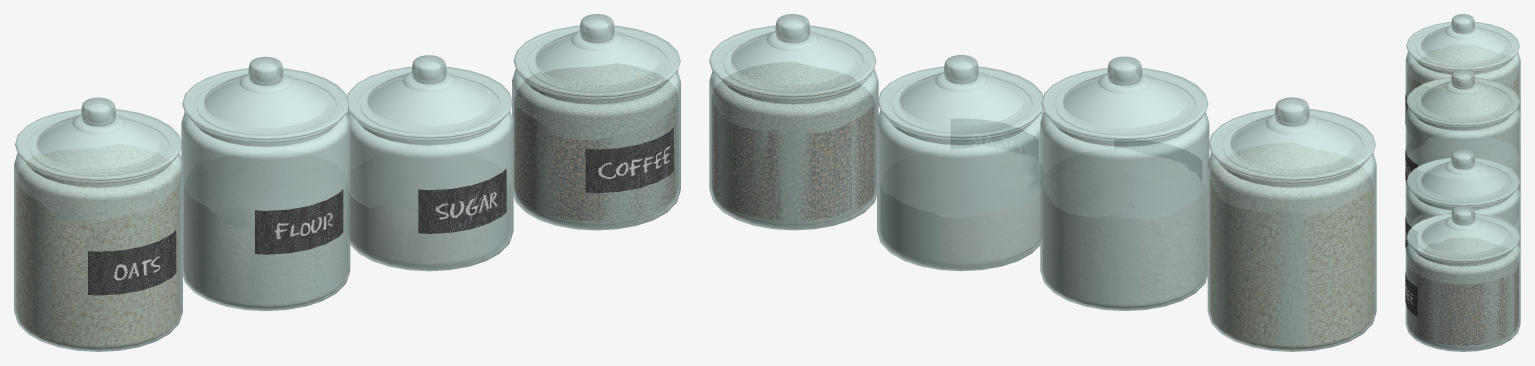
3 views of the same model, side by side, from view 1: azimuth 30°, elevation 25°; view 2: azimuth 150°, elevation 25°; view 3: azimuth 270°, elevation 25° (orthographic). The views are drawn at different scales.
Parts seen in each view (by area): view 1: _1_Gallon_Base (×6), group_4 (×20), _3qt_Base (×6), group_13 (×2), group_9, group_2 (×2), group_6, group_1, group_12, group_7, group_10; view 2: _1_Gallon_Base (×6), _3qt_Base (×6), group_4 (×20), group_13 (×3), group_9, group_2 (×3), group_6, group_7, group_1; view 3: group_4 (×20), _3qt_Base (×6), _1_Gallon_Base (×6), group_9, group_13 (×3), group_2 (×3), group_6, group_3 (×4), group_1, group_7, group_10, group_12.
Part boxes in pixels (x1,y1,x2,y2): _1_Gallon_Base (×6): [14, 74, 350, 351]; group_4 (×20): [15, 14, 680, 180]; _3qt_Base (×6): [347, 32, 680, 271]; group_13 (×2): [16, 146, 179, 349]; group_9: [514, 64, 677, 225]; group_2 (×2): [184, 152, 347, 308]; group_6: [347, 145, 509, 266]; group_1: [255, 189, 343, 254]; group_12: [88, 230, 176, 295]; group_7: [418, 168, 506, 233]; group_10: [585, 127, 673, 192]; _1_Gallon_Base (×6): [1040, 73, 1376, 351]; _3qt_Base (×6): [709, 31, 1043, 271]; group_4 (×20): [709, 14, 1375, 180]; group_13 (×3): [1210, 143, 1373, 349]; group_9: [712, 62, 875, 225]; group_2 (×3): [1043, 148, 1206, 308]; group_6: [881, 146, 1043, 266]; group_7: [951, 119, 1038, 160]; group_1: [1114, 139, 1201, 179]; group_4 (×20): [1406, 14, 1519, 262]; _3qt_Base (×6): [1405, 162, 1520, 351]; _1_Gallon_Base (×6): [1405, 26, 1520, 194]; group_9: [1407, 238, 1518, 348]; group_13 (×3): [1407, 45, 1518, 154]; group_2 (×3): [1408, 132, 1518, 224]; group_6: [1407, 210, 1517, 261]; group_3 (×4): [1455, 18, 1470, 222]; group_1: [1405, 136, 1417, 192]; group_7: [1405, 204, 1416, 255]; group_10: [1405, 271, 1417, 316]; group_12: [1405, 92, 1416, 135].
Size of the model in its own units: 30.82 by 7.02 by 10.
10 materials, 8 textured.
